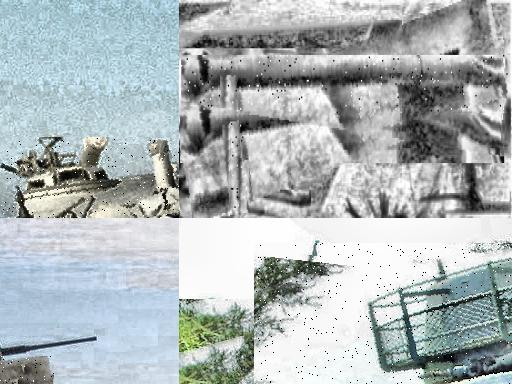tanks: (181, 58, 508, 114), (370, 266, 512, 384), (10, 138, 180, 219), (231, 123, 249, 217), (1, 358, 54, 384), (283, 209, 306, 219)
